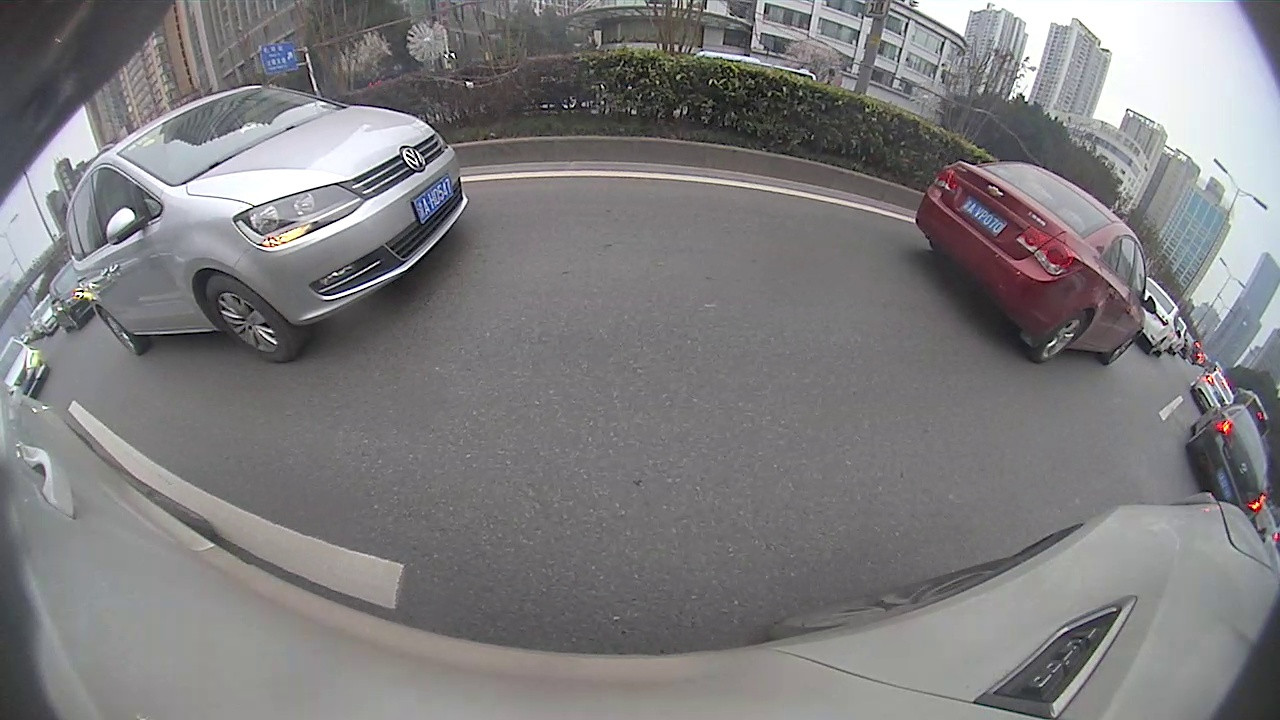car: (63, 83, 470, 366), (914, 162, 1158, 369), (1182, 395, 1271, 516), (46, 259, 98, 331), (1, 334, 50, 398), (1190, 363, 1238, 413)
front: (205, 274, 296, 363)
rear: (1033, 310, 1084, 365), (96, 306, 141, 355)
